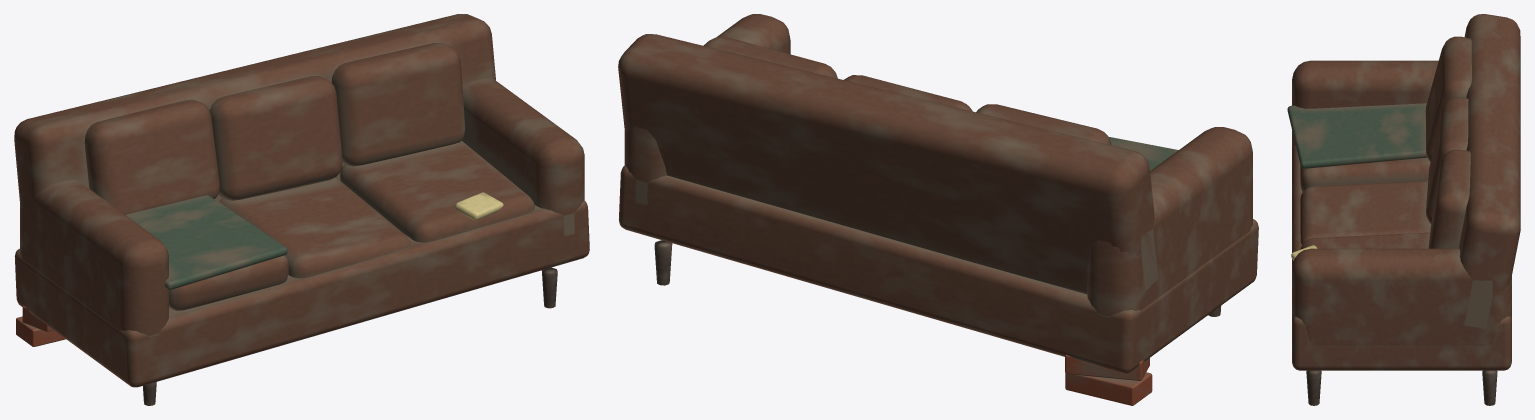
The model's file is pod_kanapa.glb.
The picture shows the model from 3 angles, left to right: view 1: azimuth 30°, elevation 25°; view 2: azimuth 150°, elevation 25°; view 3: azimuth 270°, elevation 25°; orthographic projection. The views are drawn at different scales.
Visible parts, largest first — view 1: Kanapa, Drobiazgi; view 2: Kanapa, Drobiazgi; view 3: Kanapa, Drobiazgi.
Part boxes in pixels (x1,y1,x2,y2): Kanapa: (14,14,589,405); Drobiazgi: (16,192,503,346); Kanapa: (618,14,1258,373); Drobiazgi: (1065,137,1178,405); Kanapa: (1292,14,1520,405); Drobiazgi: (1287,103,1427,260).
Bounding box in the file's own units: 1.81 × 0.8031 × 0.848.
2 materials, 2 textured.
